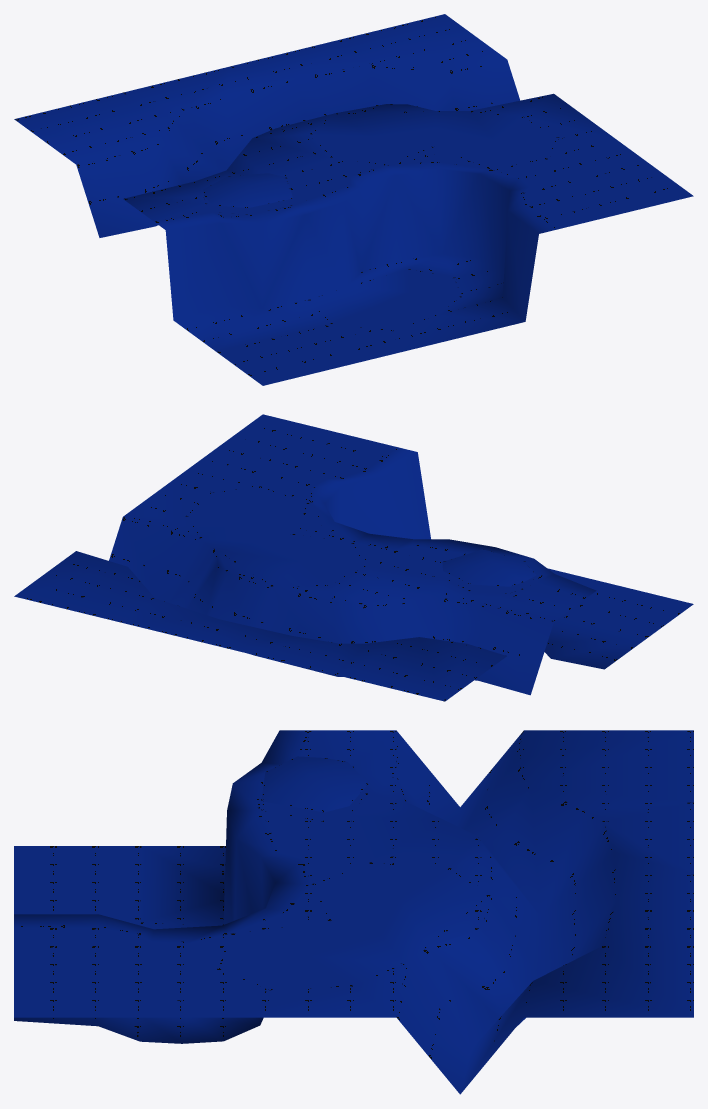
The model's file is GRD_S_C5_R2_1.fbx.
The picture shows the model from 3 angles, top to bottom: view 1: azimuth 30°, elevation 25°; view 2: azimuth 150°, elevation 25°; view 3: azimuth 270°, elevation 25°; orthographic projection. The views are drawn at different scales.
Visible parts, largest first — view 1: material_00022000, material_00062000, material_C0032000, material_C0042000, material_C0012000, material_C0052000; view 2: material_00022000, material_C0032000, material_C0042000, material_00062000, material_C0012000, material_C0052000; view 3: material_00022000, material_C0032000, material_C0042000, material_00062000, material_C0012000, material_C0052000.
Boxes of the visible parts, box(x1,y1,x2,y2) form: material_00022000: box(14, 14, 693, 385); material_00062000: box(154, 161, 558, 321); material_C0032000: box(76, 59, 520, 237); material_C0042000: box(307, 111, 559, 331); material_C0012000: box(203, 173, 292, 207); material_C0052000: box(203, 196, 292, 215); material_00022000: box(14, 414, 693, 701); material_C0032000: box(109, 517, 553, 695); material_C0042000: box(185, 486, 365, 586); material_00062000: box(309, 447, 596, 598); material_C0012000: box(442, 549, 536, 586); material_C0052000: box(442, 569, 536, 593); material_00022000: box(14, 730, 693, 1043); material_C0032000: box(396, 730, 617, 1094); material_C0042000: box(136, 862, 490, 990); material_00062000: box(14, 730, 311, 943); material_C0012000: box(261, 756, 368, 812); material_C0052000: box(261, 789, 368, 821).
Bounding box in the file's own units: 12800 × 2800 × 12800.
